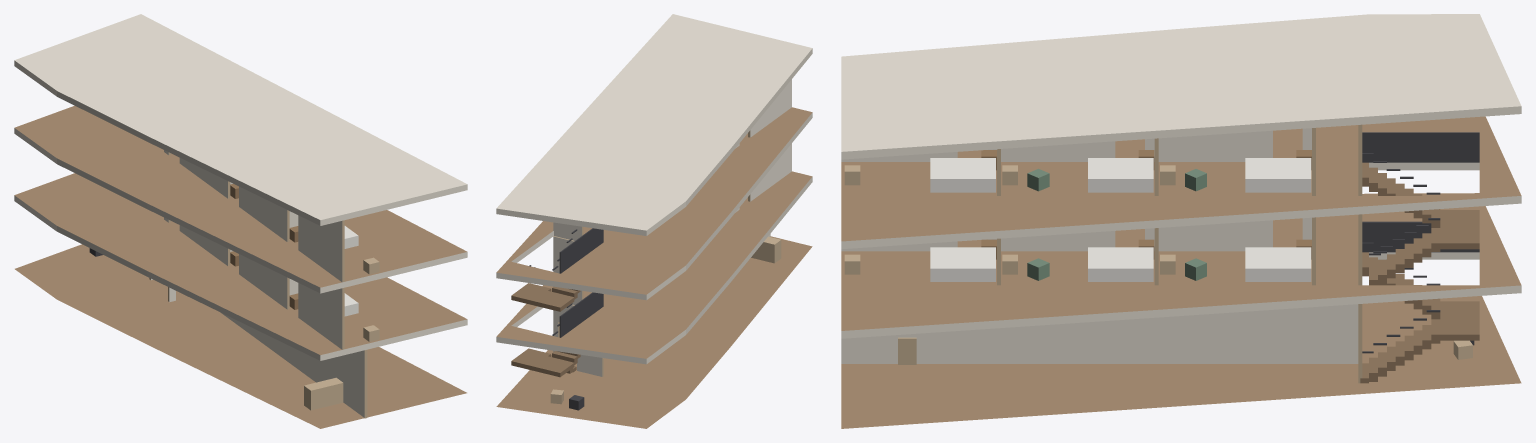
File: interior.glb
3 views of the same model, side by side, from view 1: azimuth 30°, elevation 25°; view 2: azimuth 150°, elevation 25°; view 3: azimuth 270°, elevation 25° (orthographic). The views are drawn at different scales.
Visible parts, largest first — view 1: slabs, partitions, coarse-s0, coarse-s1, coarse-s2; view 2: slabs, stair, partitions, coarse-s0; view 3: slabs, partitions, stair, coarse-s2, coarse-s1, coarse-s0.
Part boxes in pixels (x1=…): slabs: x1=14, y1=14, x2=467, y2=428; partitions: x1=149, y1=150, x2=367, y2=418; coarse-s0: x1=89, y1=248, x2=343, y2=410; coarse-s1: x1=230, y1=251, x2=379, y2=341; coarse-s2: x1=230, y1=184, x2=379, y2=274; slabs: x1=496, y1=14, x2=812, y2=428; stair: x1=511, y1=228, x2=603, y2=377; partitions: x1=553, y1=79, x2=791, y2=376; coarse-s0: x1=550, y1=236, x2=781, y2=410; slabs: x1=841, y1=14, x2=1521, y2=428; partitions: x1=841, y1=124, x2=1362, y2=383; stair: x1=1360, y1=132, x2=1479, y2=383; coarse-s2: x1=844, y1=150, x2=1311, y2=192; coarse-s1: x1=844, y1=239, x2=1311, y2=281; coarse-s0: x1=898, y1=337, x2=1474, y2=364.
Bounding box in the file's own units: 9.91 × 9.3 × 20.65.
